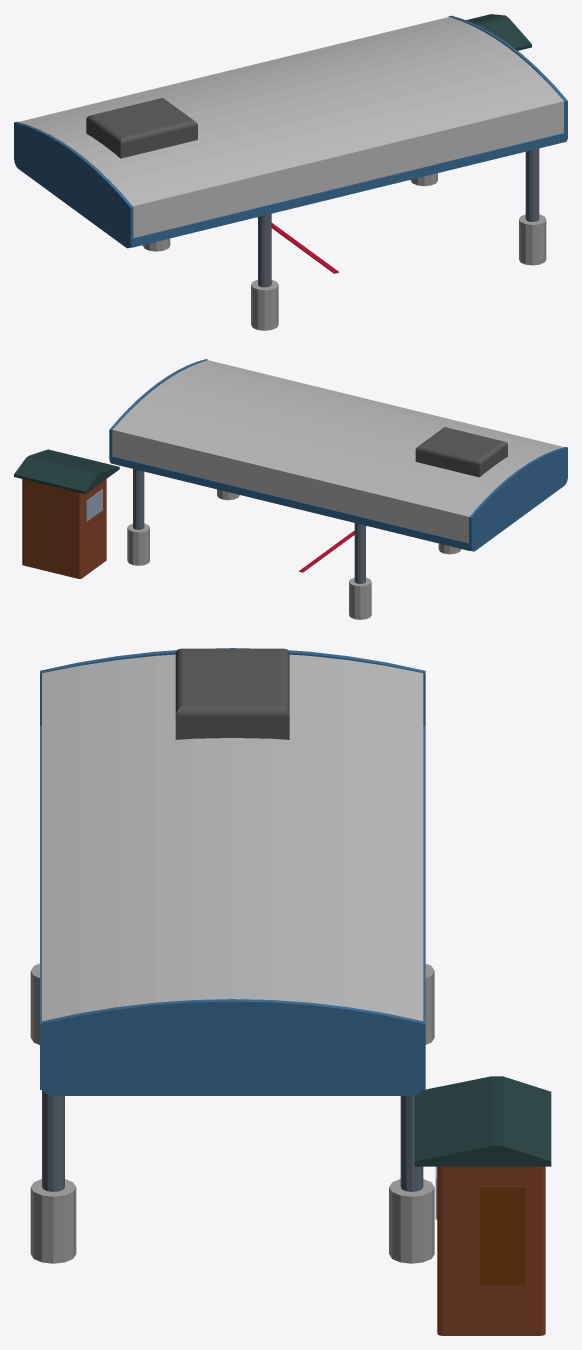
File: lift_terminal.obj
3 renders of one model, top to bottom at view 1: azimuth 30°, elevation 25°; view 2: azimuth 150°, elevation 25°; view 3: azimuth 270°, elevation 25°, orthographic. The views are drawn at different scales.
Size of the model in its own units: 17.3 by 5.92 by 9.15.
